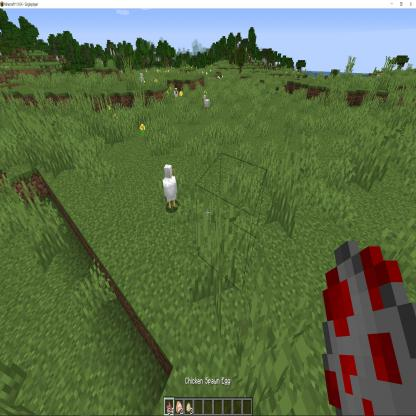minecraft-pigs: (157, 161, 181, 210), (202, 92, 211, 113), (138, 70, 146, 88), (173, 87, 180, 104)
